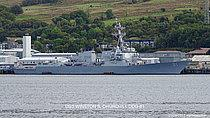MIL_Ship: (14, 30, 191, 75)
